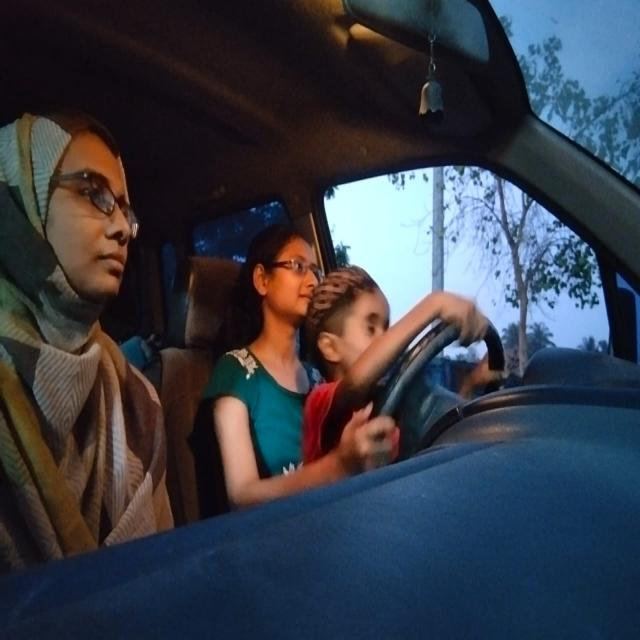child: (302, 276, 401, 374)
person: (0, 92, 143, 308), (242, 203, 322, 317)
